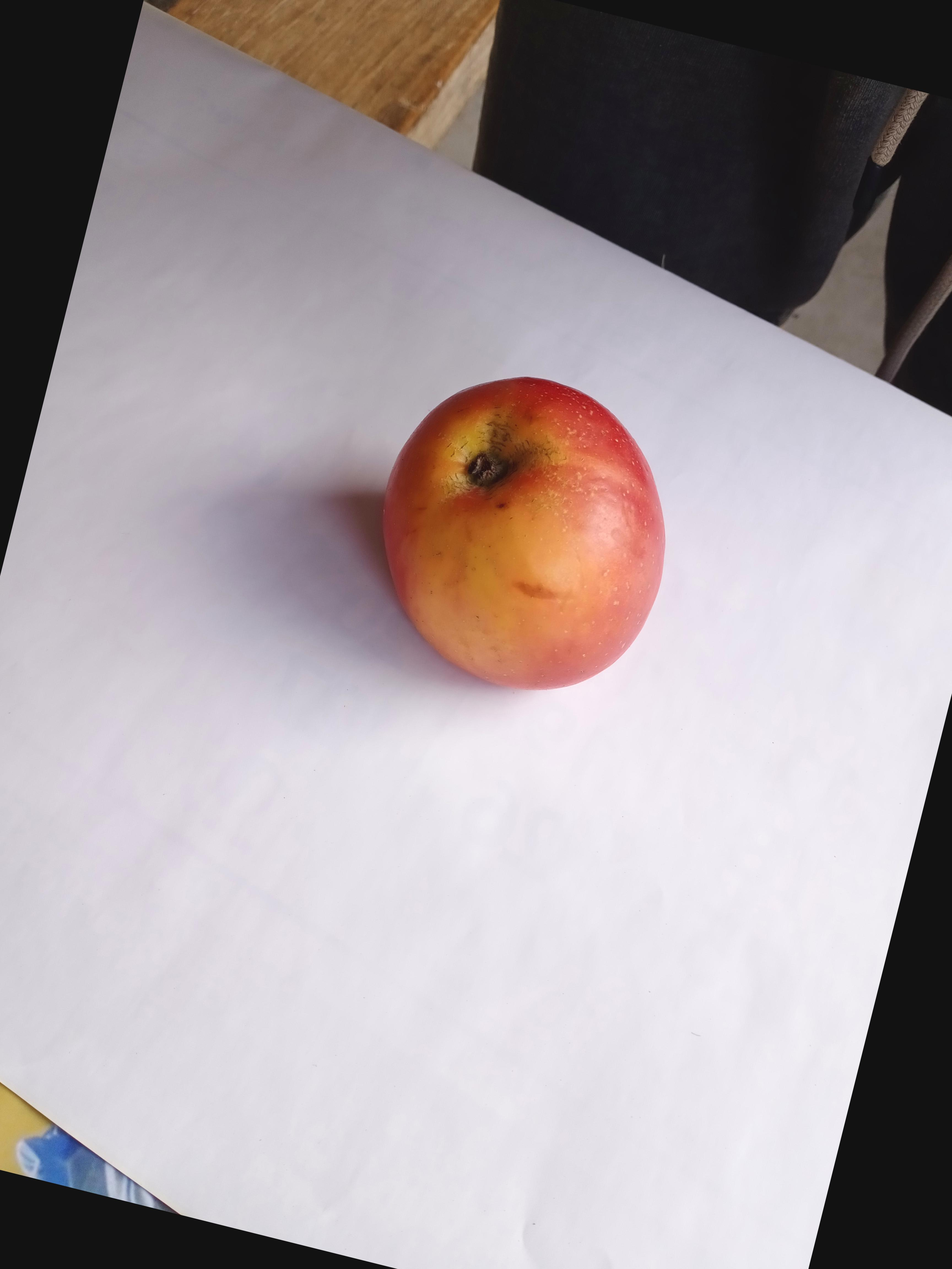Apple Ripe: (526, 202, 928, 621)
